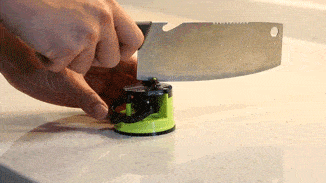knief: (121, 15, 293, 83)
